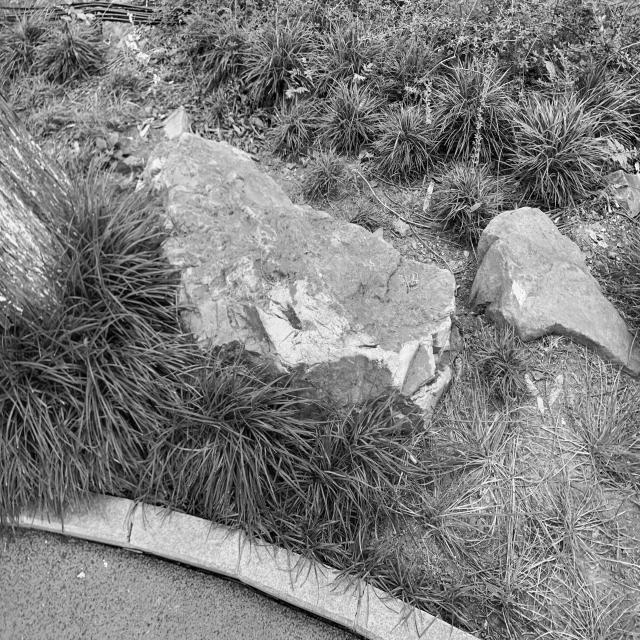Stone: (145, 132, 455, 402), (471, 208, 640, 376)
